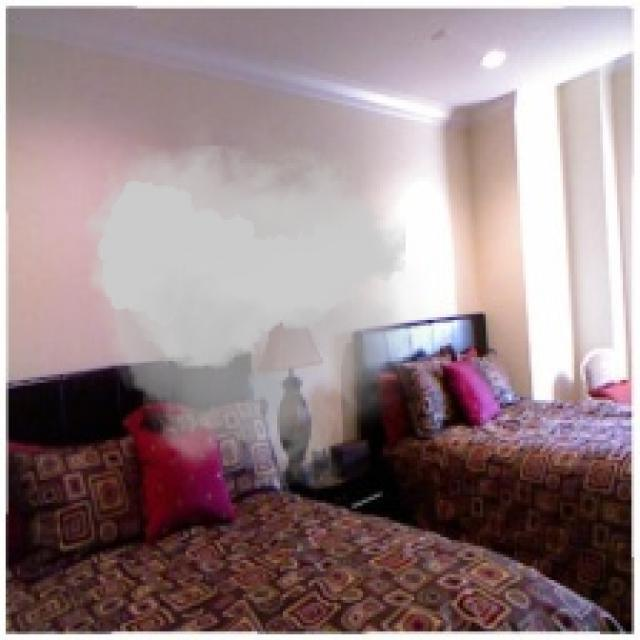Smoke: (74, 114, 429, 509)
